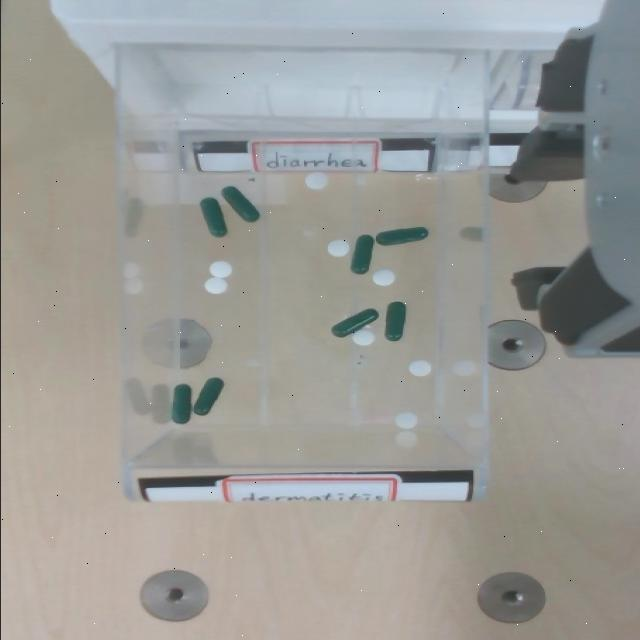ganakan_tab: (324, 239, 349, 258), (207, 260, 232, 279), (202, 277, 228, 295), (350, 328, 376, 346), (372, 268, 395, 286), (408, 359, 431, 376), (303, 172, 326, 189), (395, 412, 416, 429)
monodoxy_cap: (329, 307, 378, 338), (219, 186, 258, 223), (220, 187, 258, 223), (330, 309, 376, 338), (191, 376, 223, 415), (197, 197, 227, 238), (193, 378, 223, 416), (373, 227, 428, 247), (348, 233, 374, 274), (199, 199, 226, 238), (382, 301, 406, 342), (350, 236, 374, 275), (374, 228, 426, 246), (169, 383, 191, 424), (383, 302, 405, 341), (171, 384, 190, 425)
